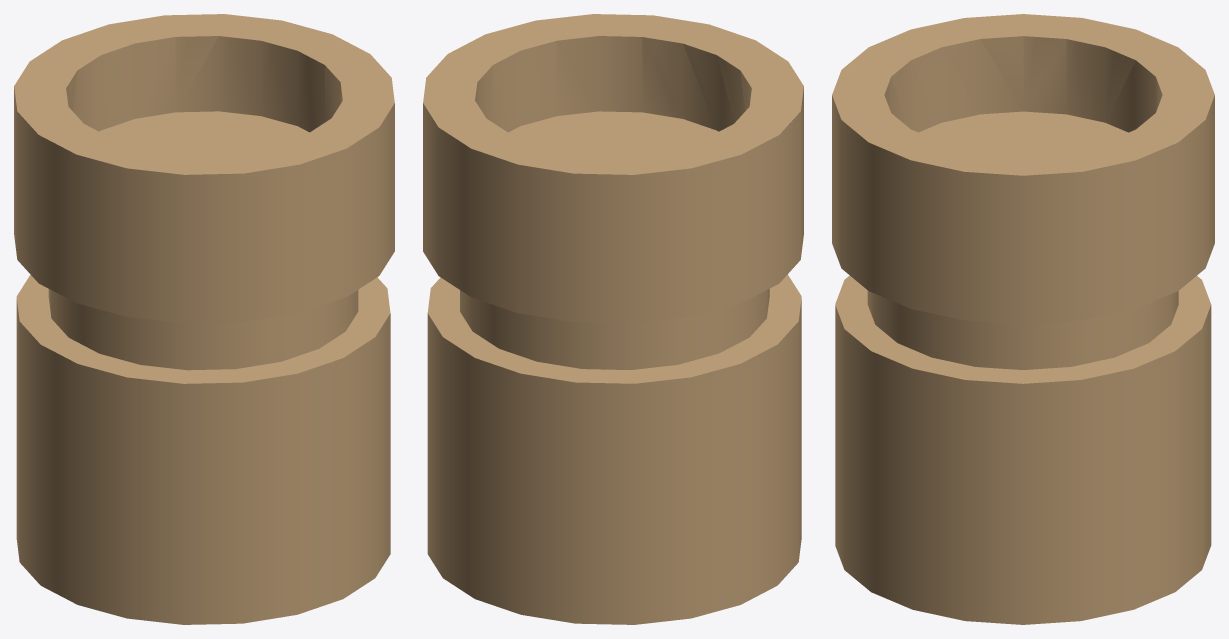
The picture shows the model from 3 angles, left to right: view 1: azimuth 30°, elevation 25°; view 2: azimuth 150°, elevation 25°; view 3: azimuth 270°, elevation 25°; orthographic projection.
Parts seen in each view (by area): view 1: 丸1凹_白; view 2: 丸1凹_白; view 3: 丸1凹_白.
Part boxes in pixels (bbox=[...]): 丸1凹_白: bbox=[14, 14, 394, 624]; 丸1凹_白: bbox=[423, 14, 803, 624]; 丸1凹_白: bbox=[832, 14, 1214, 624].
Bounding box in the file's own units: 0.0261 × 0.034 × 0.0261.
